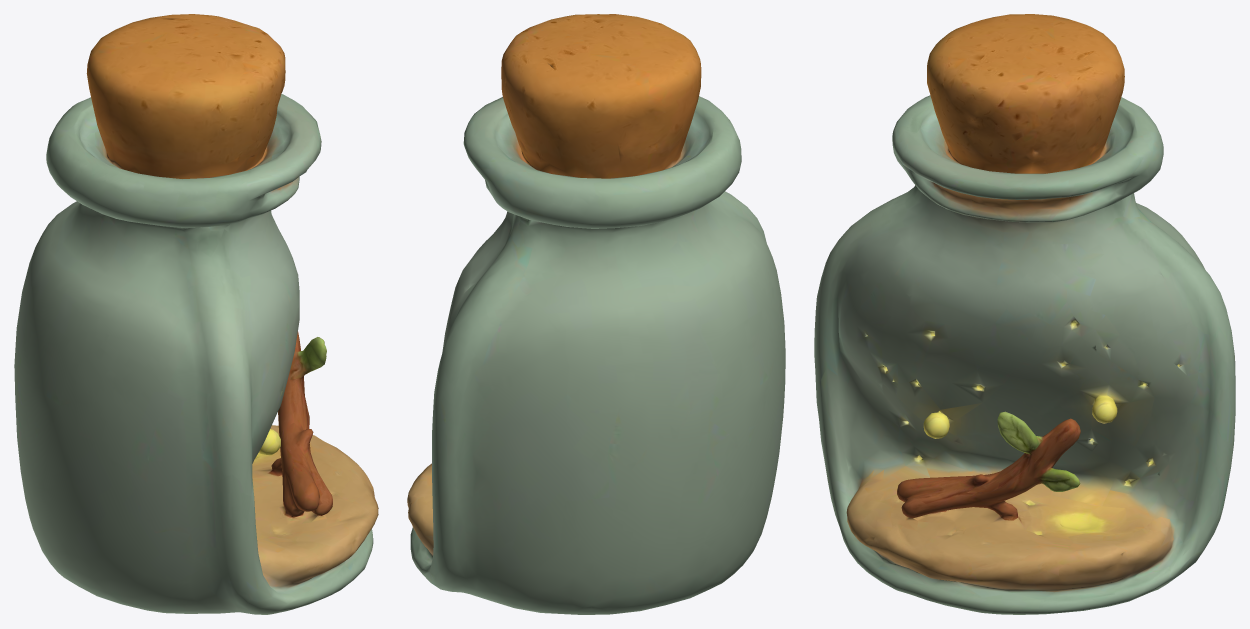
The model's file is keepsake-firefly-jar.glb.
3 renders of one model, left to right at view 1: azimuth 30°, elevation 25°; view 2: azimuth 150°, elevation 25°; view 3: azimuth 270°, elevation 25°, orthographic. The views are drawn at different scales.
Parts seen in each view (by area): view 1: tripo_node_9ae2d461-a75b-4280-996d-c660f4322db0; view 2: tripo_node_9ae2d461-a75b-4280-996d-c660f4322db0; view 3: tripo_node_9ae2d461-a75b-4280-996d-c660f4322db0.
Part boxes in pixels (x1,y1,x2,y2): tripo_node_9ae2d461-a75b-4280-996d-c660f4322db0: (14,14,378,614); tripo_node_9ae2d461-a75b-4280-996d-c660f4322db0: (407,14,785,614); tripo_node_9ae2d461-a75b-4280-996d-c660f4322db0: (814,14,1235,614).
Size of the model in its own units: 0.6303 by 0.978 by 0.744.
1 material, 1 textured.
